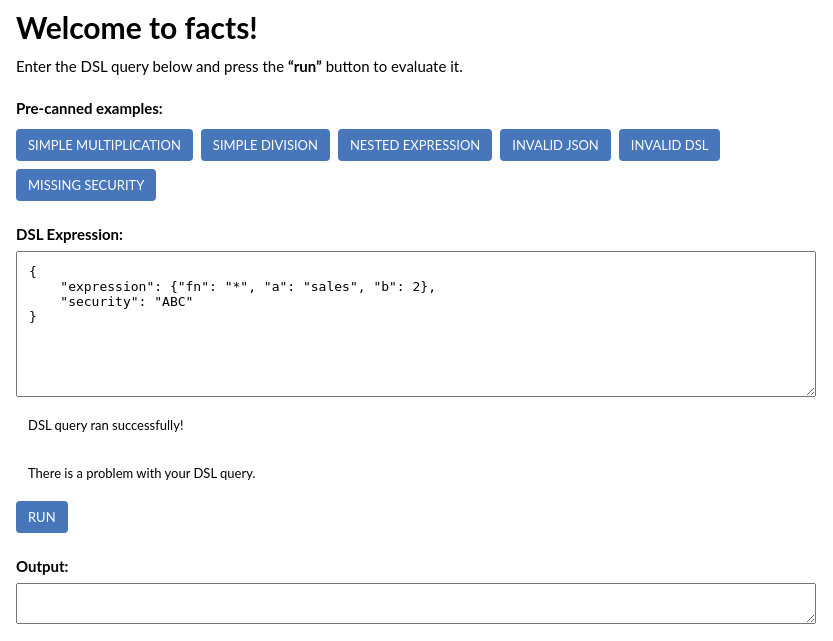
it: Index page › should evaluate the expression when the "run" button is clicked for `multiply` example
Check: the text box with test id "output-text-area" is empty, box [16,583,816,624]
# Press `run` button
Click the button with test id "run-button": click(42, 517) [16,501,68,533]
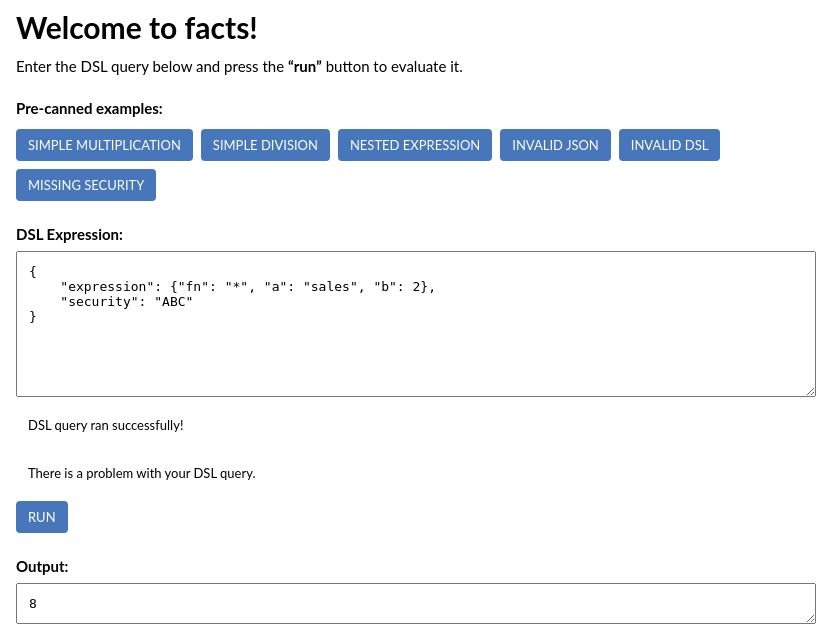
Check: the text box with test id "output-text-area" is not empty, box [16,583,816,624]
Check: the text box with test id "output-text-area" holds "8", box [16,583,816,624]
